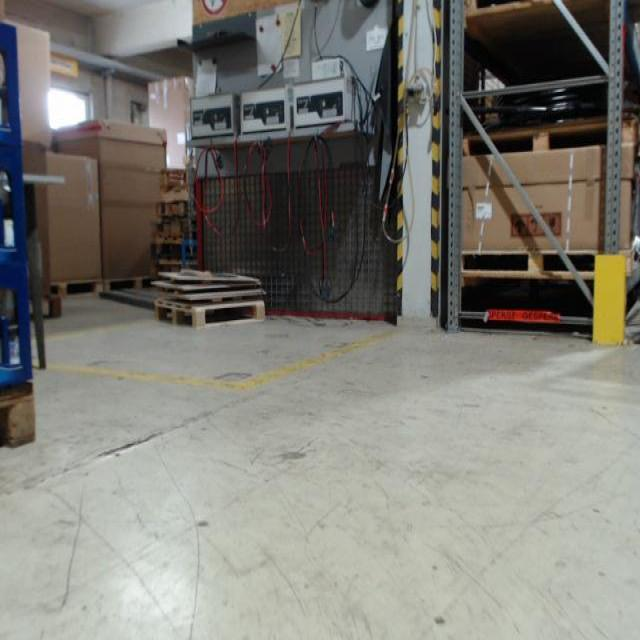pallet: (461, 114, 638, 162), (456, 244, 632, 285), (154, 297, 267, 332), (46, 274, 102, 305), (103, 272, 153, 300)
